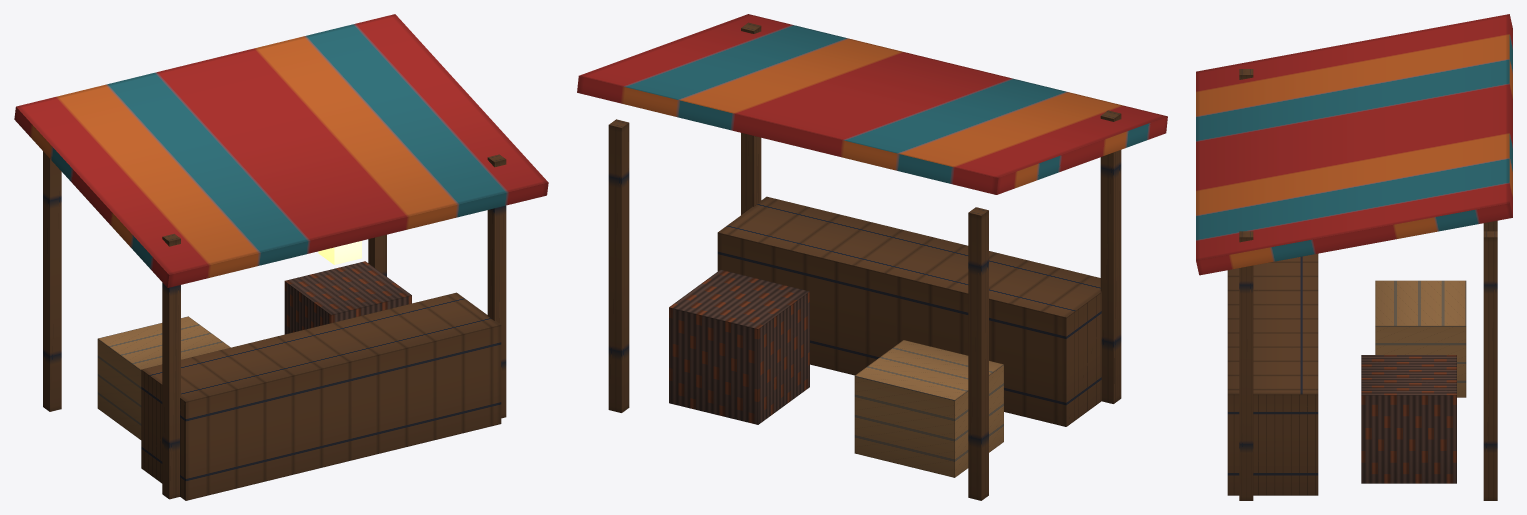
The model's file is ashblock_market_awning_stall.glb.
3 views of the same model, side by side, from view 1: azimuth 30°, elevation 25°; view 2: azimuth 150°, elevation 25°; view 3: azimuth 270°, elevation 25° (orthographic). The views are drawn at different scales.
Parts seen in each view (by area): view 1: ashblock_market_awning_stall; view 2: ashblock_market_awning_stall; view 3: ashblock_market_awning_stall.
Part boxes in pixels (x1=…): ashblock_market_awning_stall: x1=14, y1=14, x2=548, y2=500; ashblock_market_awning_stall: x1=577, y1=14, x2=1167, y2=500; ashblock_market_awning_stall: x1=1196, y1=14, x2=1512, y2=500.
Bounding box in the file's own units: 3.85 × 2.92 × 2.72.
1 material, 1 textured.
